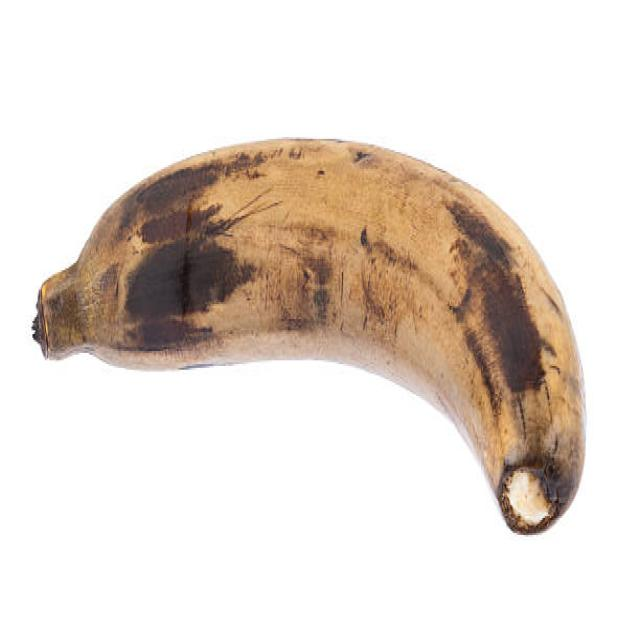overripe: (27, 130, 591, 542)
